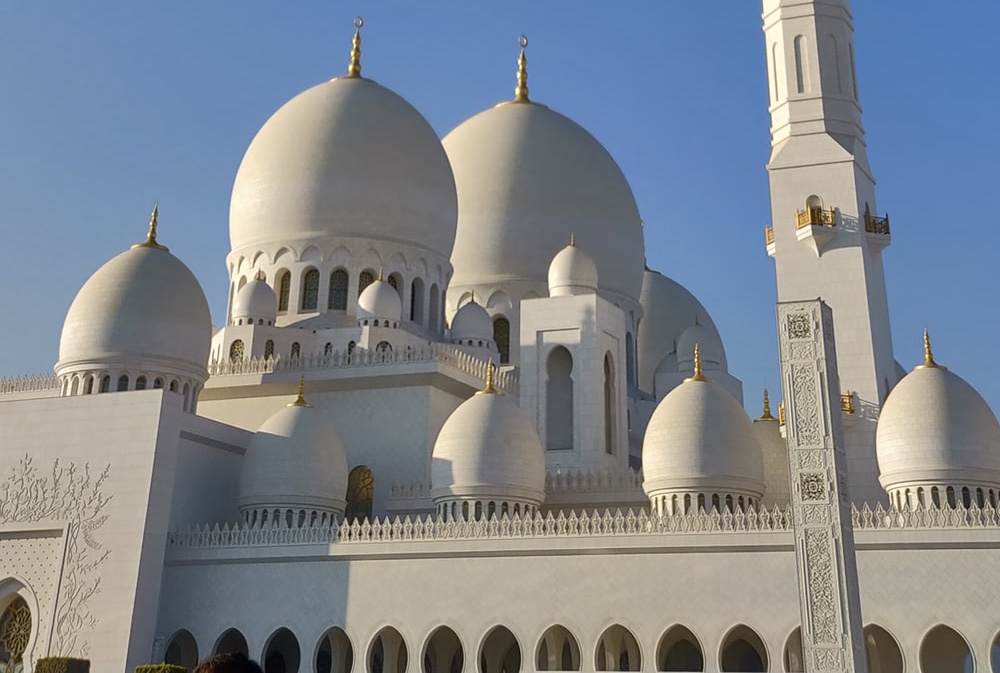Mosque: (31, 13, 992, 624)
